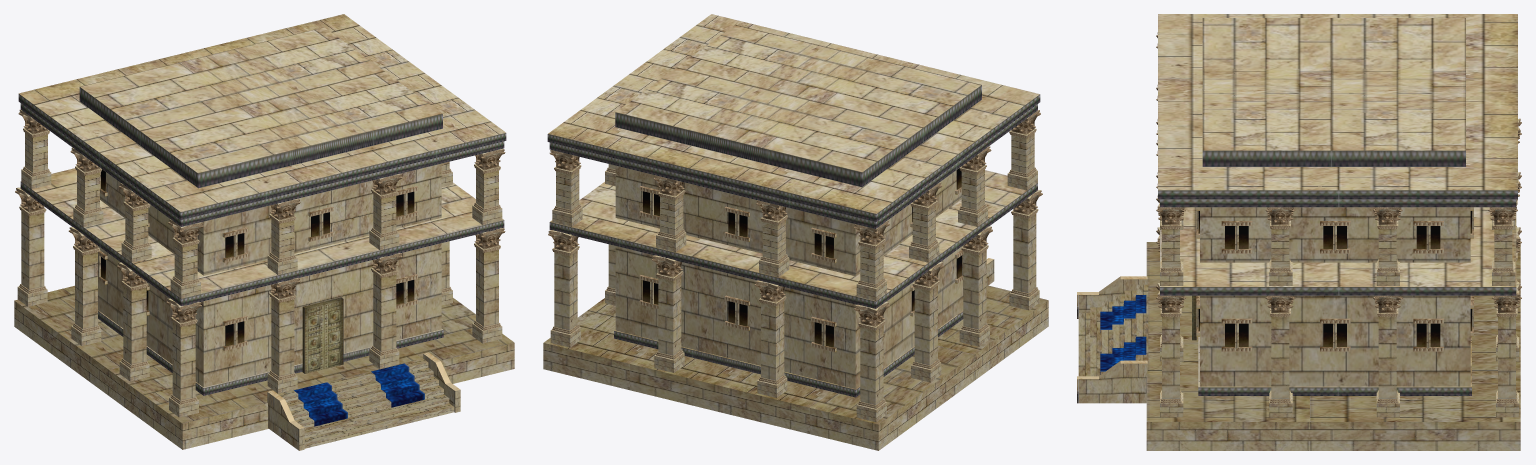
The model's file is sanedrin_2.dae.
3 renders of one model, left to right at view 1: azimuth 30°, elevation 25°; view 2: azimuth 150°, elevation 25°; view 3: azimuth 270°, elevation 25°, orthographic. The views are drawn at different scales.
Parts seen in each view (by area): view 1: sanedrin_2; view 2: sanedrin_2; view 3: sanedrin_2.
Boxes of the visible parts, x1,y1,x2,y2 form: sanedrin_2: (14, 14, 514, 450); sanedrin_2: (543, 14, 1048, 450); sanedrin_2: (1077, 14, 1521, 450).
Bounding box in the file's own units: 20.16 × 21.07 × 14.37.
